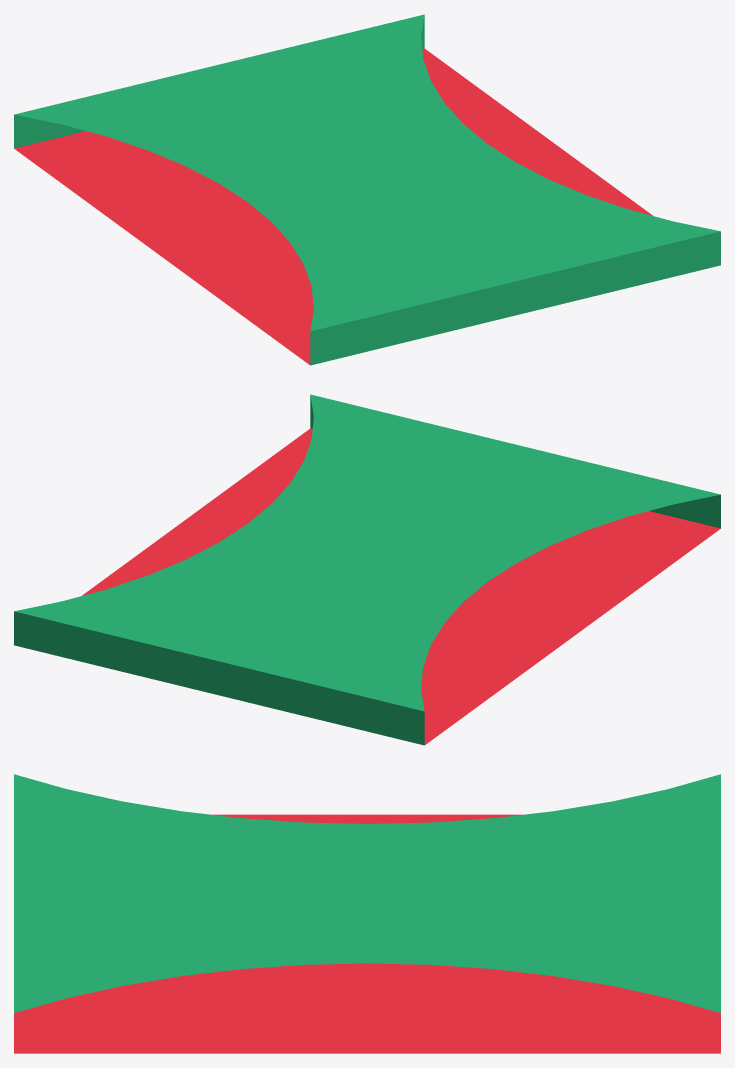
The model's file is NarrowRound base.FBX.
3 views of the same model, one above another, from view 1: azimuth 30°, elevation 25°; view 2: azimuth 150°, elevation 25°; view 3: azimuth 270°, elevation 25° (orthographic). The views are drawn at different scales.
Parts seen in each view (by area): view 1: narrowRound; view 2: narrowRound; view 3: narrowRound.
Part boxes in pixels (bbox=[...]): narrowRound: bbox=[14, 14, 720, 365]; narrowRound: bbox=[14, 394, 720, 745]; narrowRound: bbox=[14, 774, 720, 1053].
Bounding box in the file's own units: 79.99 × 6.33 × 99.99.
